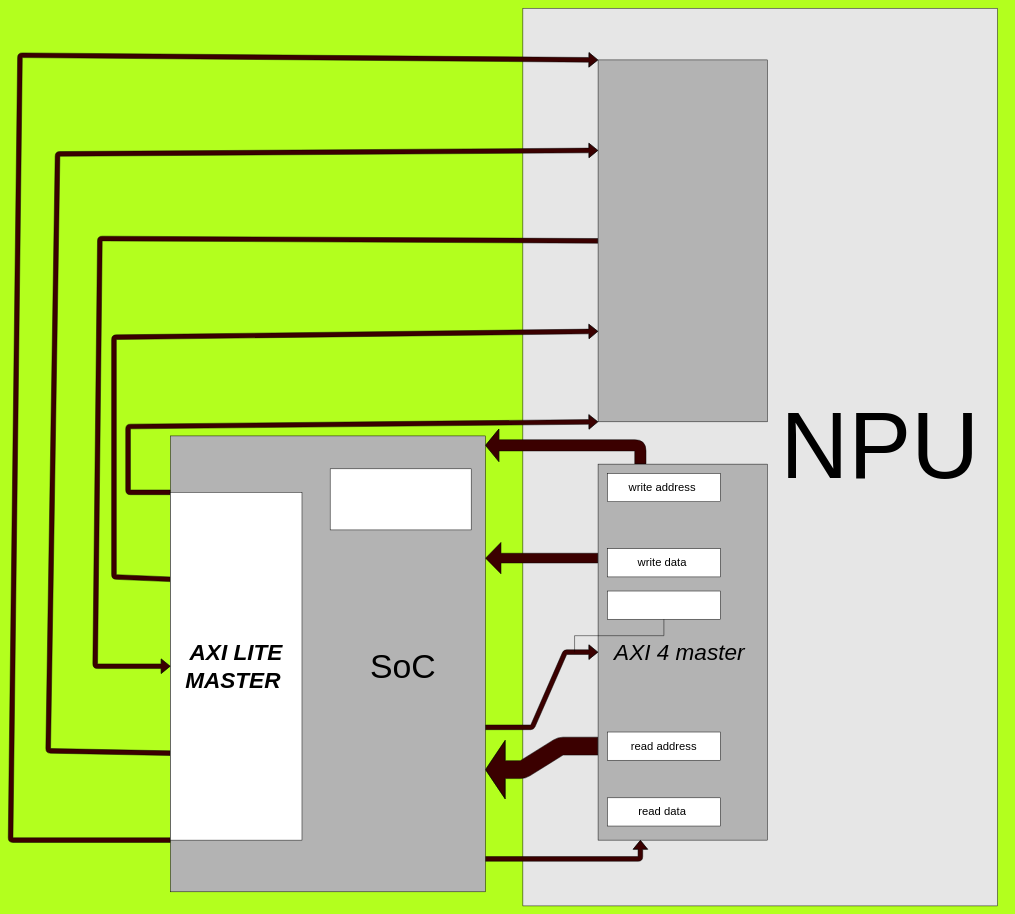
Some shapes in this 1015 by 914 pixel diagram are drawn without their labels. The shapes that lost their labels are listed below. From the top down, each one's centre as x and y in pixels, then its label:
At point (682, 240): "AXI LITE SLAVE".
At point (400, 499): "THIS IS CPU WHICH IS SLAVE FOR NPU WHEN DMA IS THERE".
At point (663, 605): "write responce".
